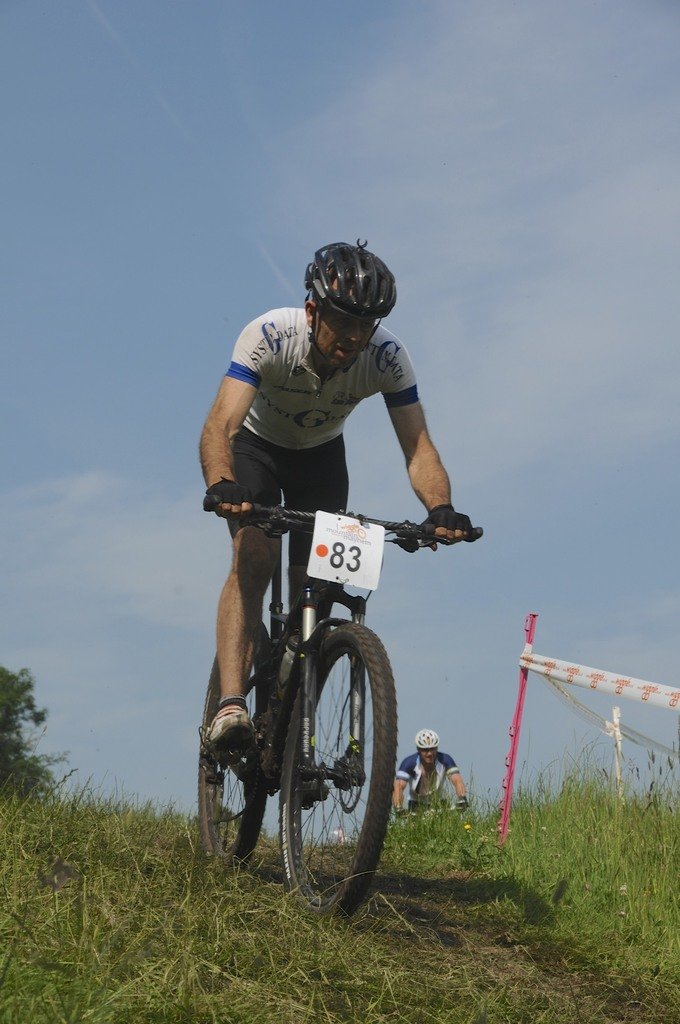Bike: (207, 488, 467, 948)
